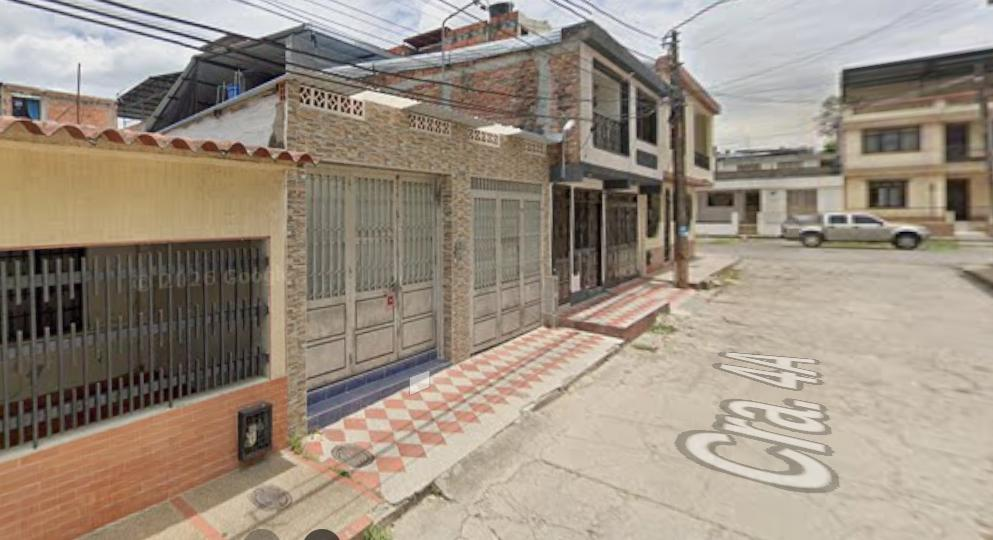casa: (172, 32, 550, 398), (0, 121, 308, 539), (369, 0, 675, 309), (837, 48, 992, 235), (698, 147, 845, 236)
poste: (664, 0, 729, 287)
